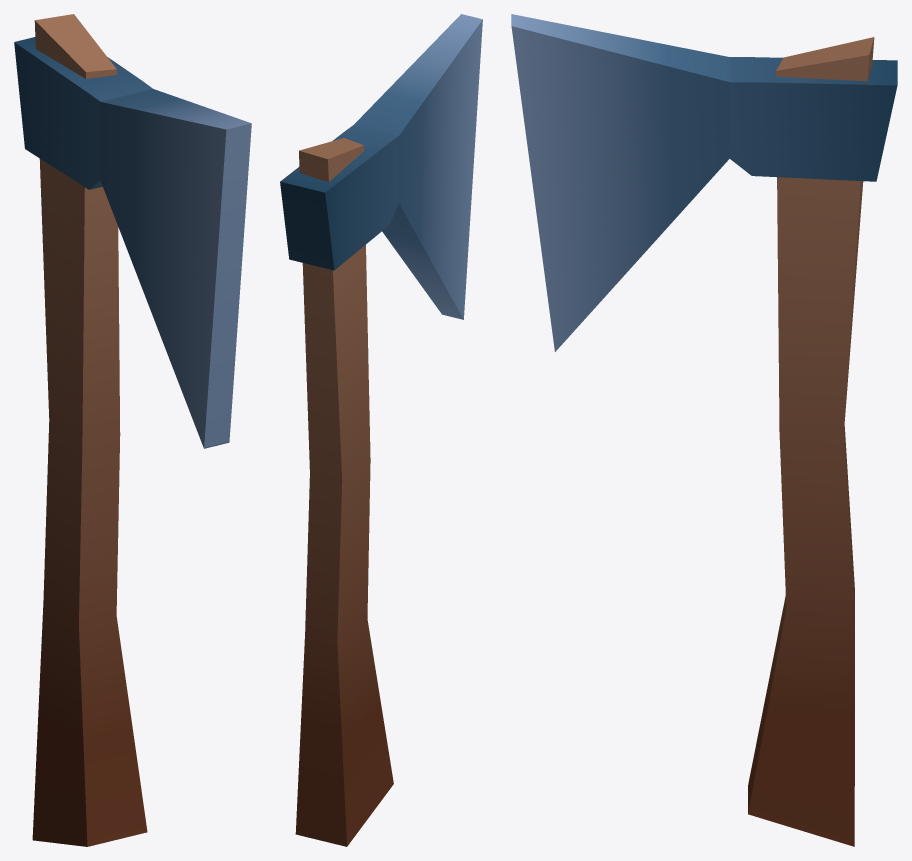
The model's file is Axe_Stone.fbx.
3 views of the same model, side by side, from view 1: azimuth 30°, elevation 25°; view 2: azimuth 150°, elevation 25°; view 3: azimuth 270°, elevation 25° (orthographic). The views are drawn at different scales.
Visible parts, largest first — view 1: axe_stone, axe_stone.001; view 2: axe_stone, axe_stone.001; view 3: axe_stone.001, axe_stone.
Boxes of the visible parts, x1,y1,x2,y2 form: axe_stone: (32, 14, 147, 846); axe_stone.001: (14, 37, 251, 448); axe_stone: (295, 138, 393, 846); axe_stone.001: (280, 14, 482, 319); axe_stone.001: (511, 14, 897, 351); axe_stone: (748, 37, 874, 846).
Size of the model in its own units: 4.98 by 66.18 by 28.49.
